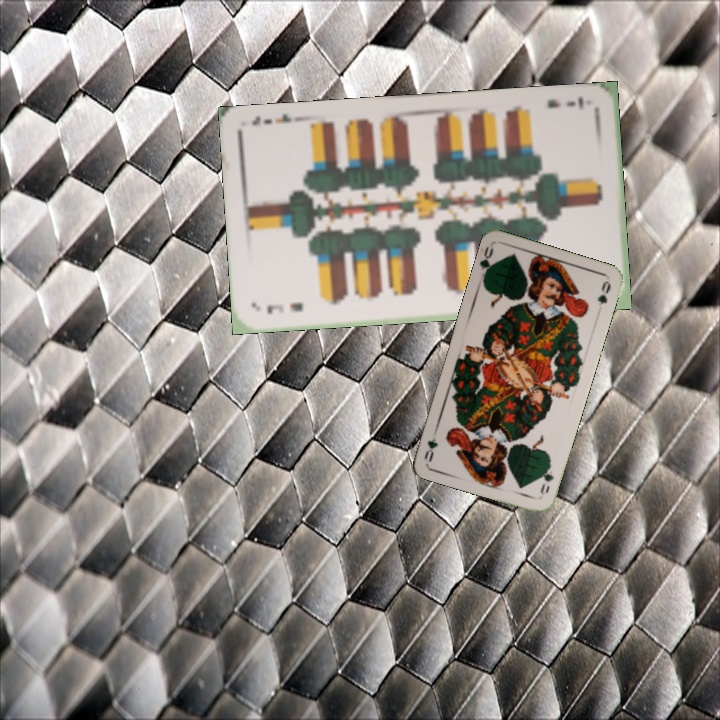E7: (543, 92, 586, 112), (263, 298, 306, 317)
GO: (476, 242, 498, 283), (536, 458, 556, 499)
